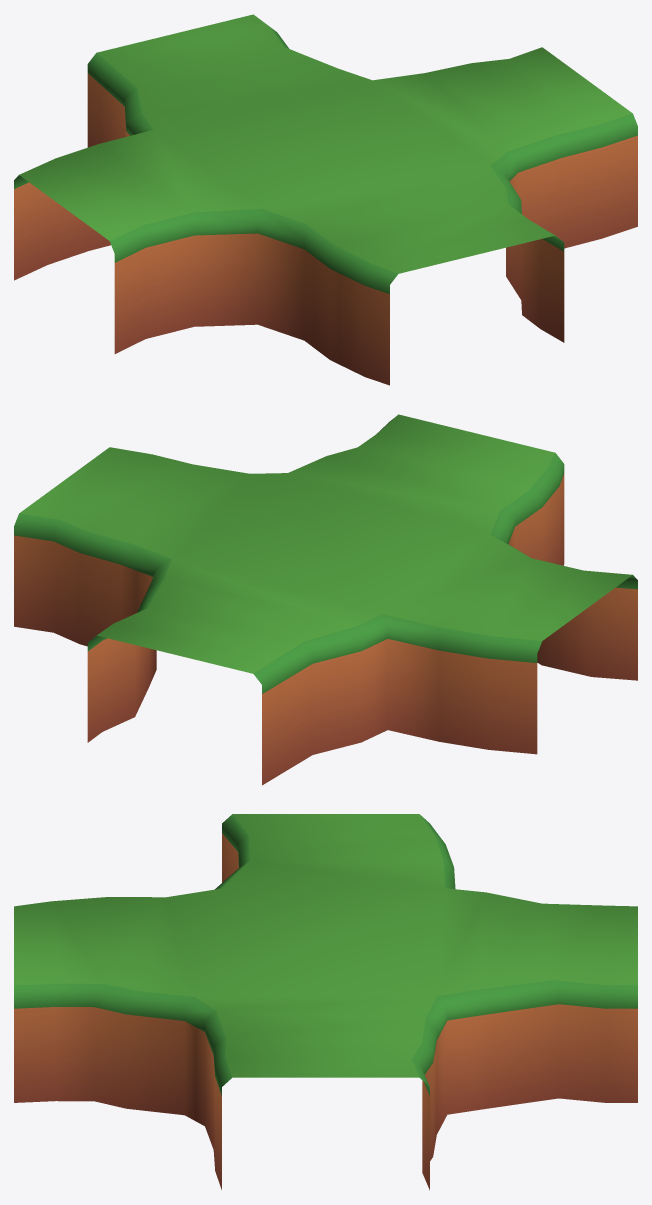
File: Cross Junction 02.FBX
The picture shows the model from 3 angles, top to bottom: view 1: azimuth 30°, elevation 25°; view 2: azimuth 150°, elevation 25°; view 3: azimuth 270°, elevation 25°; orthographic projection. The views are drawn at different scales.
Visible parts, largest first — view 1: Cross Junction 02; view 2: Cross Junction 02; view 3: Cross Junction 02.
Boxes of the visible parts, left/top/right/bottom form: Cross Junction 02: left=14, top=14, right=637, bottom=385; Cross Junction 02: left=14, top=414, right=637, bottom=785; Cross Junction 02: left=14, top=814, right=637, bottom=1190.
Size of the model in its own units: 1500 by 300 by 1500.
Materials: 1 (1 with a texture image).
